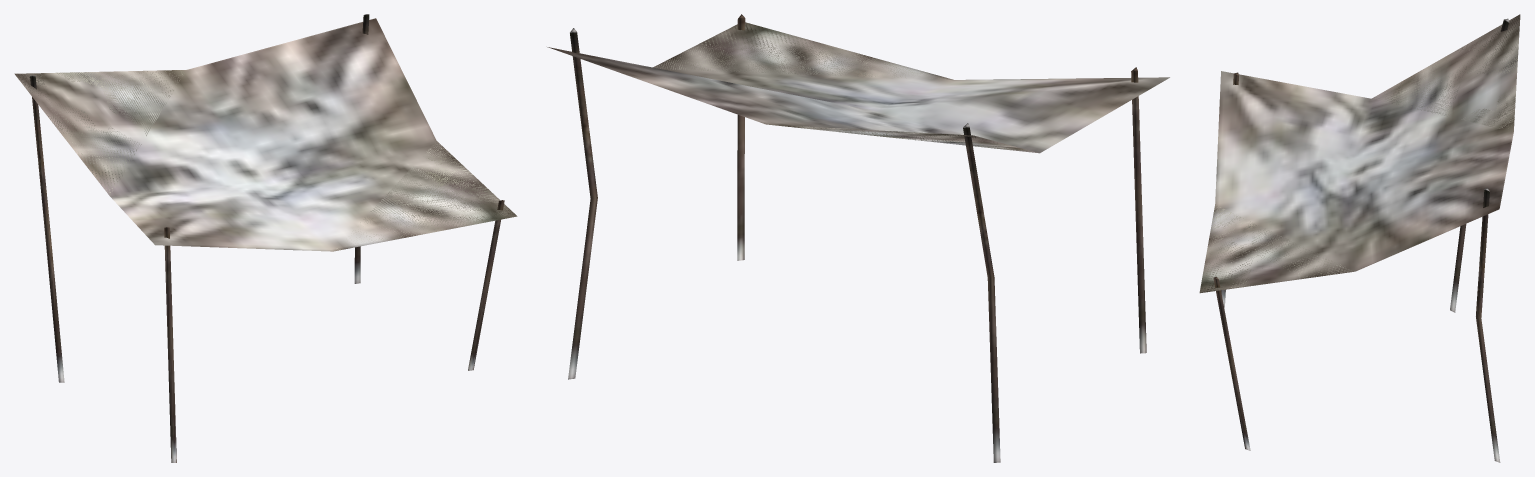
Rendered from peng02.obj.
3 views of the same model, side by side, from view 1: azimuth 30°, elevation 25°; view 2: azimuth 150°, elevation 25°; view 3: azimuth 270°, elevation 25° (orthographic). The views are drawn at different scales.
Visible parts, largest first — view 1: peng02; view 2: peng02; view 3: peng02.
Boxes of the visible parts, x1=… form: peng02: x1=14, y1=14, x2=517, y2=462; peng02: x1=547, y1=14, x2=1169, y2=462; peng02: x1=1199, y1=14, x2=1520, y2=462.
Bounding box in the file's own units: 122 × 93.81 × 93.61.
